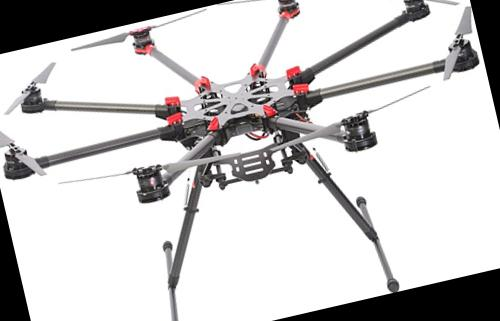drone: (0, 0, 500, 260)
